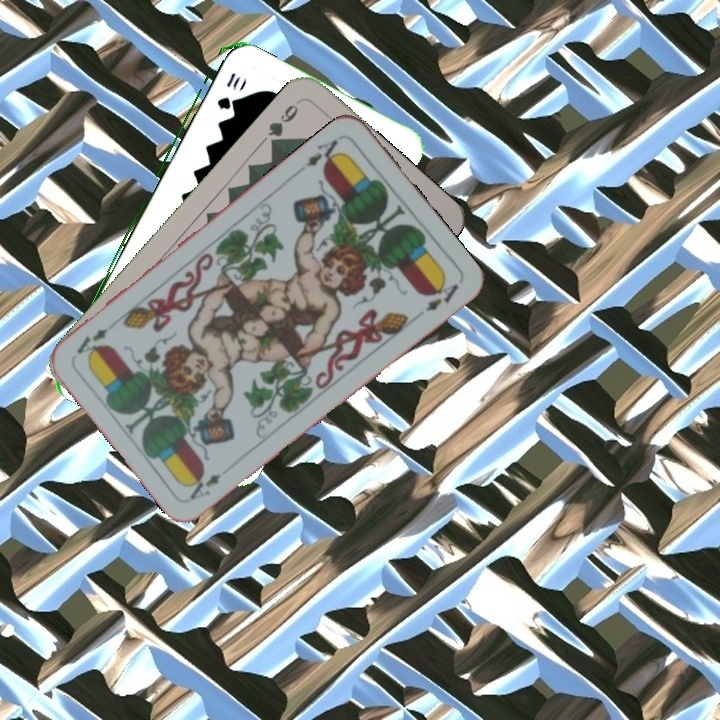EA: (301, 135, 345, 172), (182, 469, 224, 503)
G10: (212, 68, 243, 112)
G9: (263, 96, 303, 150)
